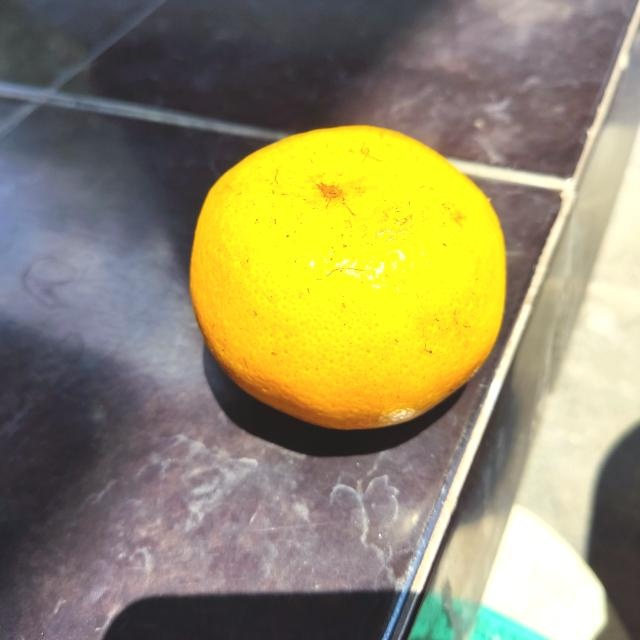agrume: (187, 118, 512, 430)
